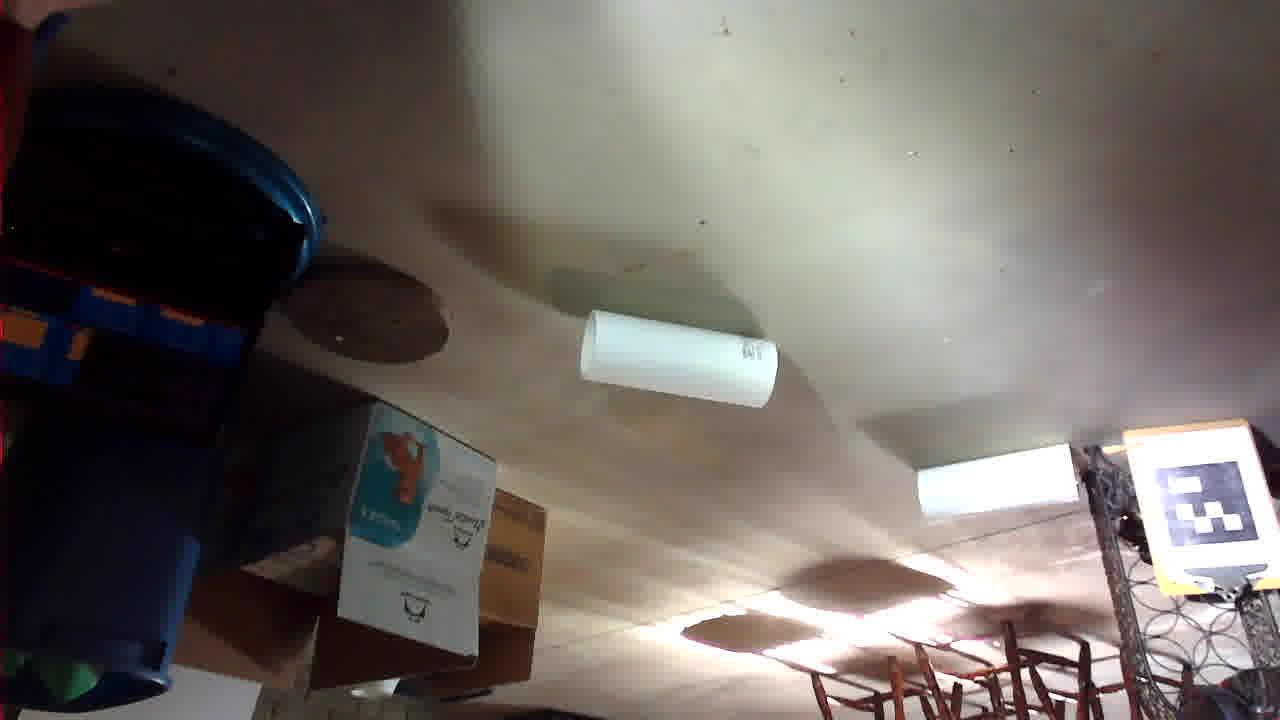coral: (503, 313, 700, 409), (203, 201, 364, 275)
